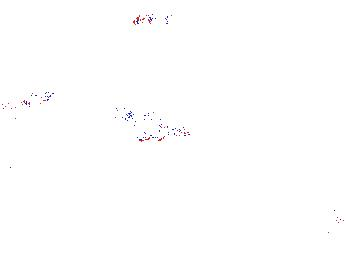X-ray fish: (297, 203, 346, 233), (58, 94, 92, 121)
glassfish: (274, 169, 346, 216)
red belly glassfish: (131, 11, 170, 28)
redtail glassfish: (117, 106, 191, 142)
